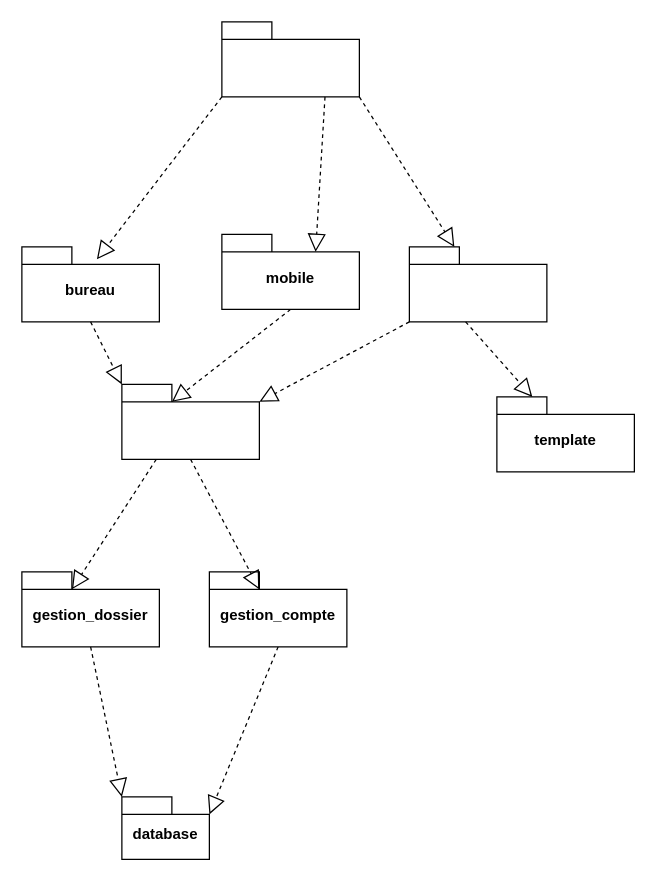
The diagram is 656 pixels wide and 881 high, and some of its shapes have lost their labels. The shapes that lost their labels are listed below. From the top down, each one's centre as x and y in pixels, then its label:
At [290,59]: "default".
At [477,284]: "web".
At [190,421]: "authentification".
